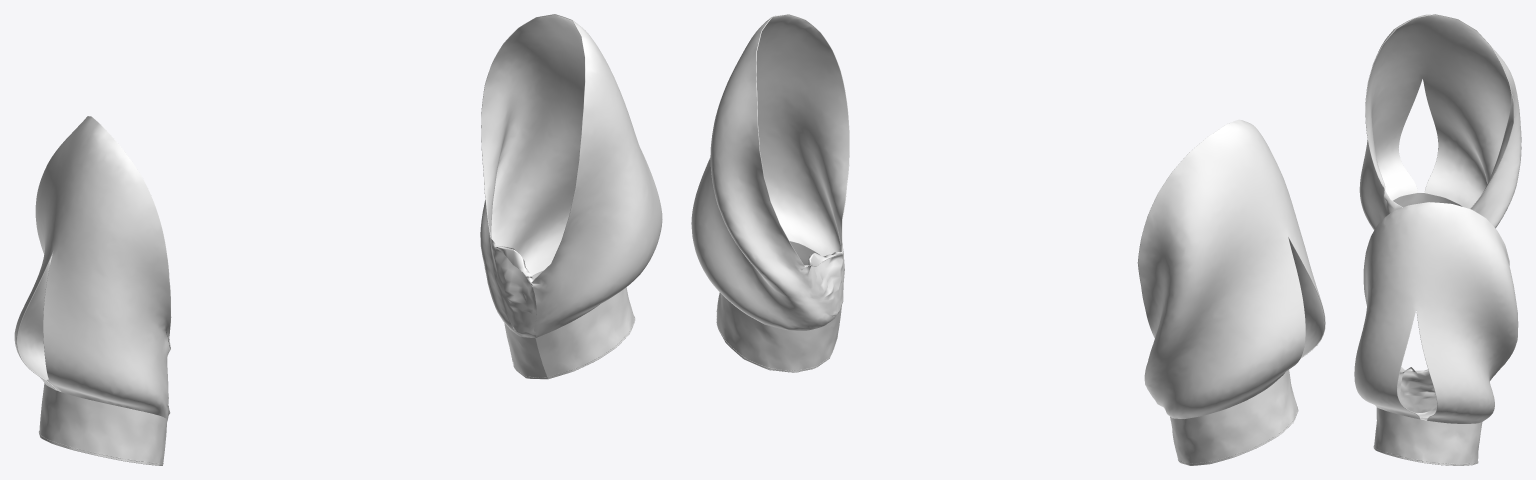
File: slit_sleeve.glb
3 renders of one model, left to right at view 1: azimuth 30°, elevation 25°; view 2: azimuth 150°, elevation 25°; view 3: azimuth 270°, elevation 25°, orthographic. The views are drawn at different scales.
Parts seen in each view (by area): view 1: sleeve_2_Node, sleeve_9_Node, contrast_Node, contrast_1_Node; view 2: sleeve_9_Node, sleeve_2_Node, contrast_Node, contrast_1_Node; view 3: sleeve_2_Node, sleeve_9_Node, contrast_1_Node, contrast_Node.
Boxes of the visible parts, x1,y1,x2,y2 form: sleeve_2_Node: [480, 14, 662, 338]; sleeve_9_Node: [14, 116, 171, 421]; contrast_Node: [39, 379, 166, 465]; contrast_1_Node: [504, 270, 635, 379]; sleeve_9_Node: [1137, 119, 1325, 418]; sleeve_2_Node: [691, 14, 849, 330]; contrast_Node: [1170, 370, 1298, 465]; contrast_1_Node: [717, 241, 841, 372]; sleeve_2_Node: [1354, 202, 1518, 423]; sleeve_9_Node: [1359, 14, 1521, 230]; contrast_1_Node: [1373, 407, 1482, 465]; contrast_Node: [1393, 192, 1462, 207].
Size of the model in its own units: 49.89 by 26.63 by 14.45.
14 materials, 2 textured.
